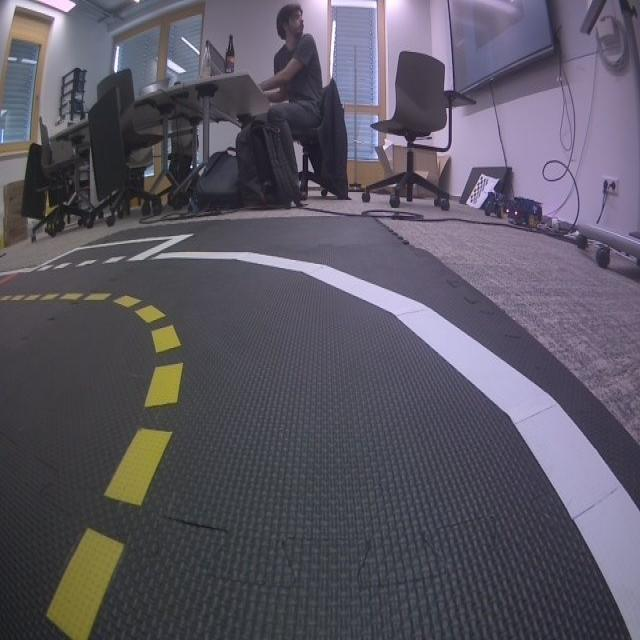park: (29, 233, 195, 270)
